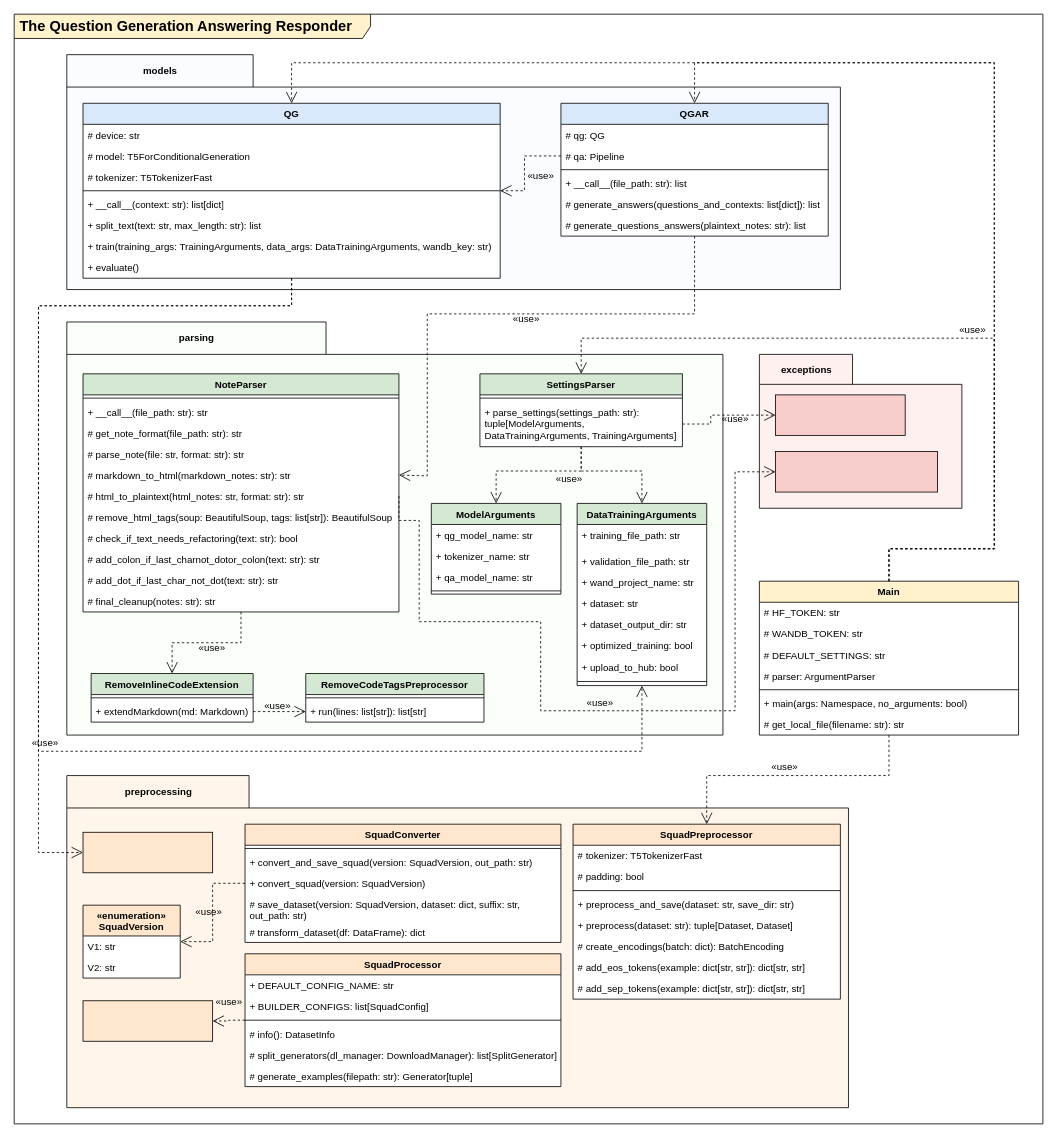
This 1057x1138 diagram has some shape labels left out. Each missing label, with the centre of its shape:
NoSupportedFileTypeFoundError: pixel 856 471
SquadConfig: pixel 147 1020
T2TDataCollator: pixel 147 852
UnsupportedFileTypeError: pixel 840 414
